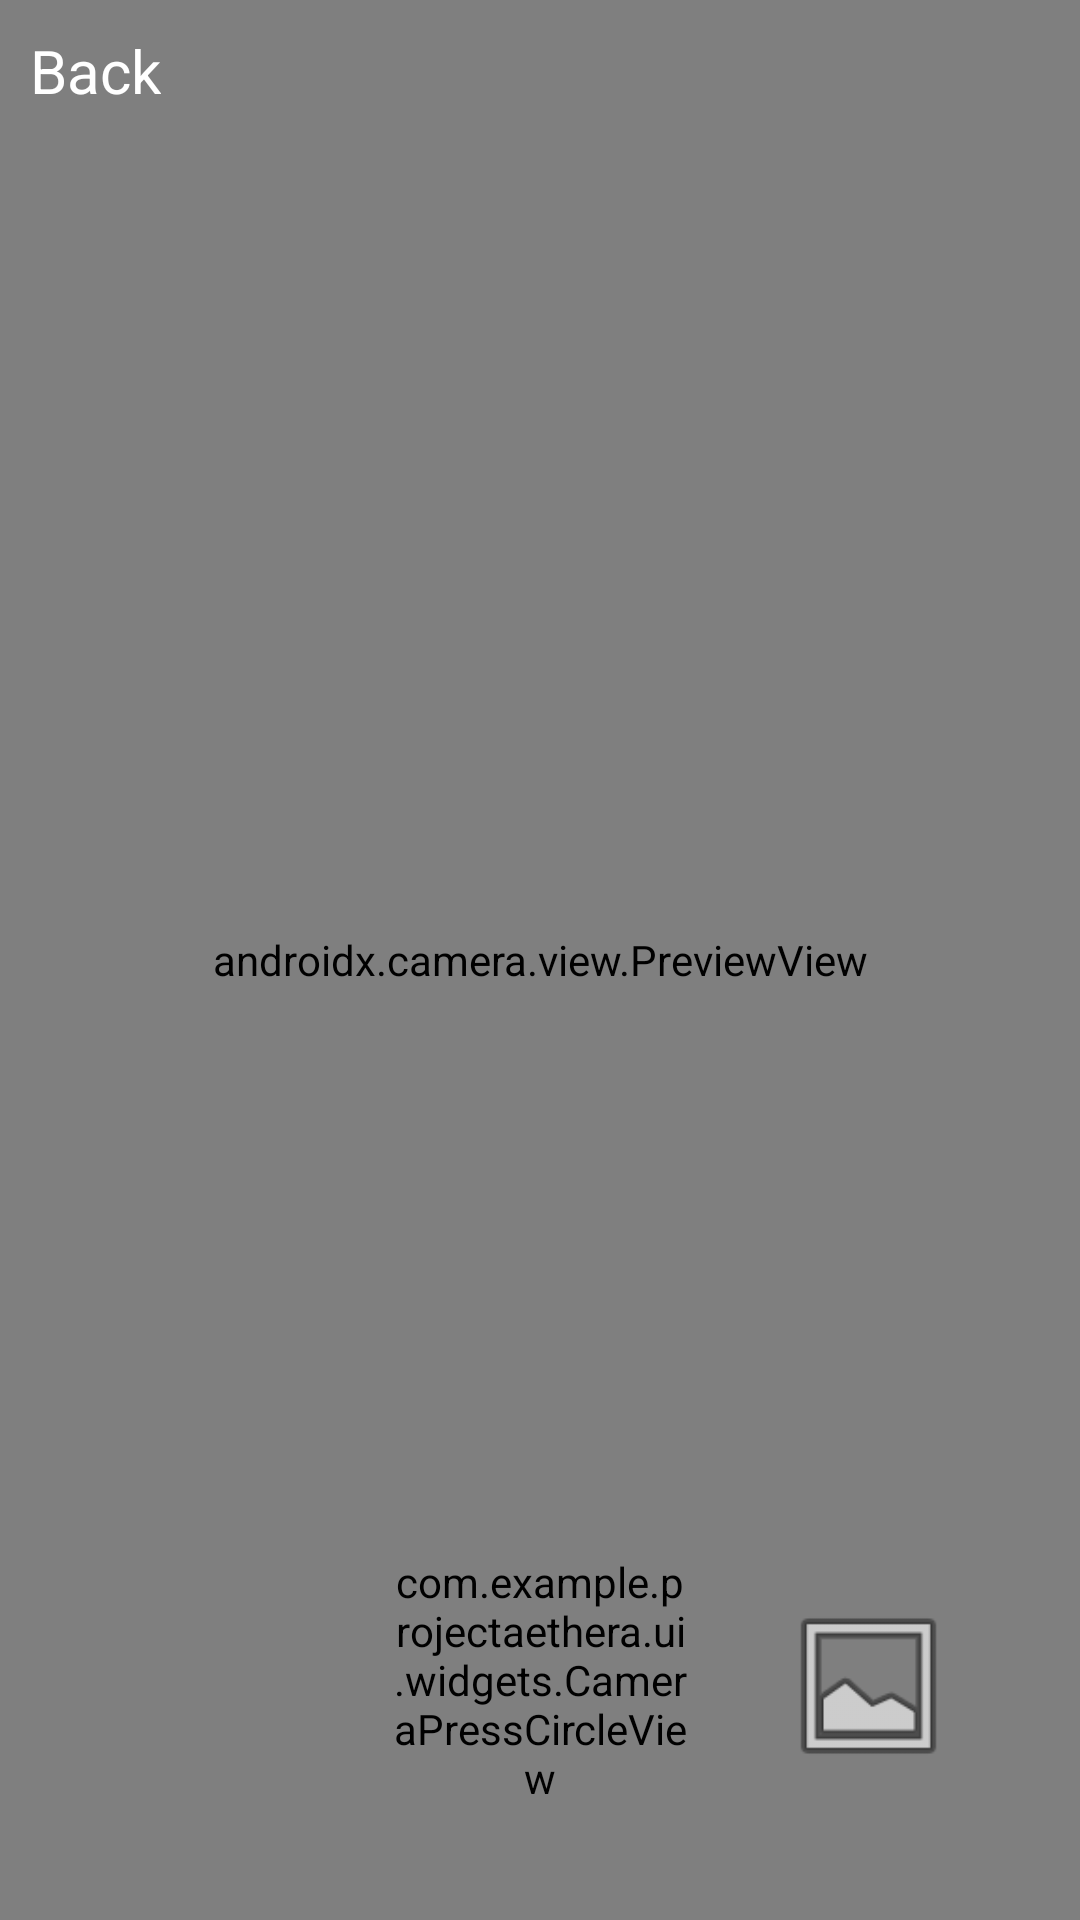

Icon click points for this 1080*1920 phone screenshot, format (x=x, y=y):
gallery: (x=868, y=1686)
